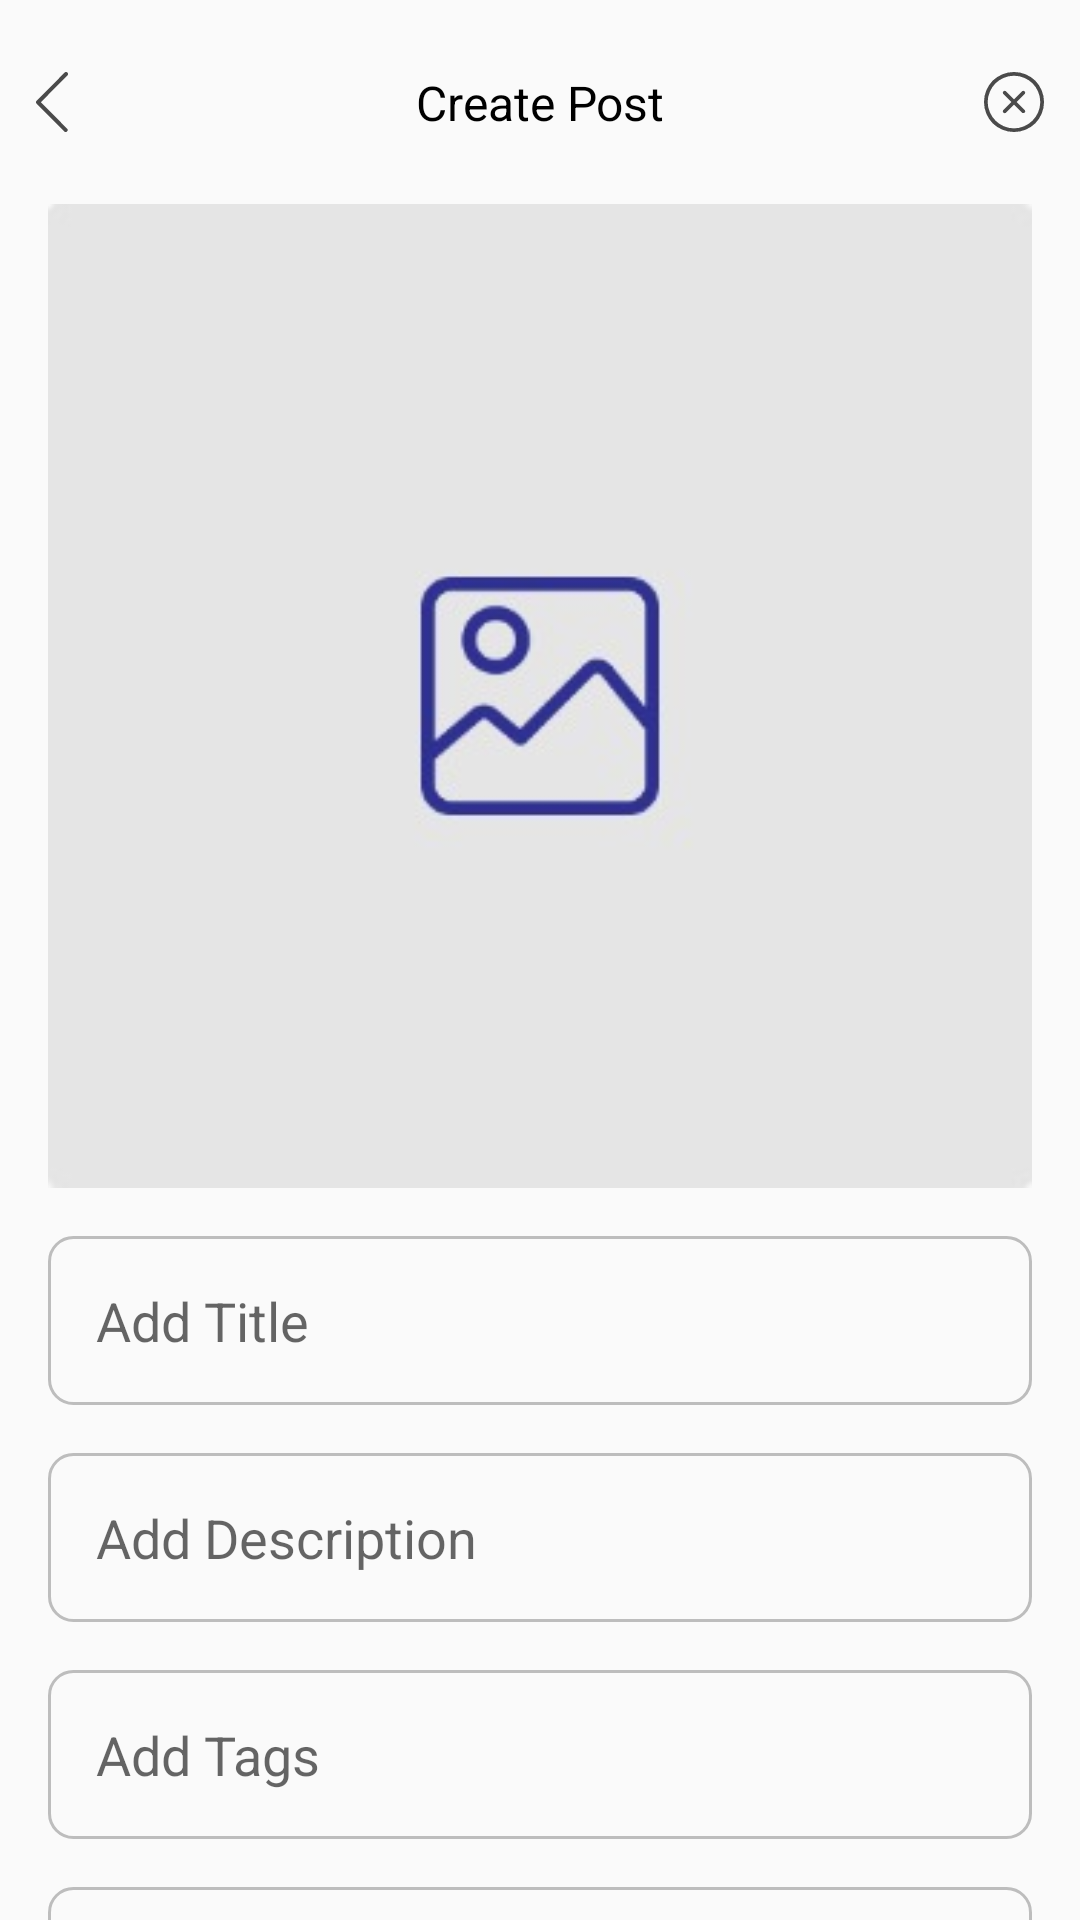

Point at icon controls on the screen. Image size 1080 x 1920, points as point (x, y).
back post: point (52, 102)
cancel: point (1014, 102)
